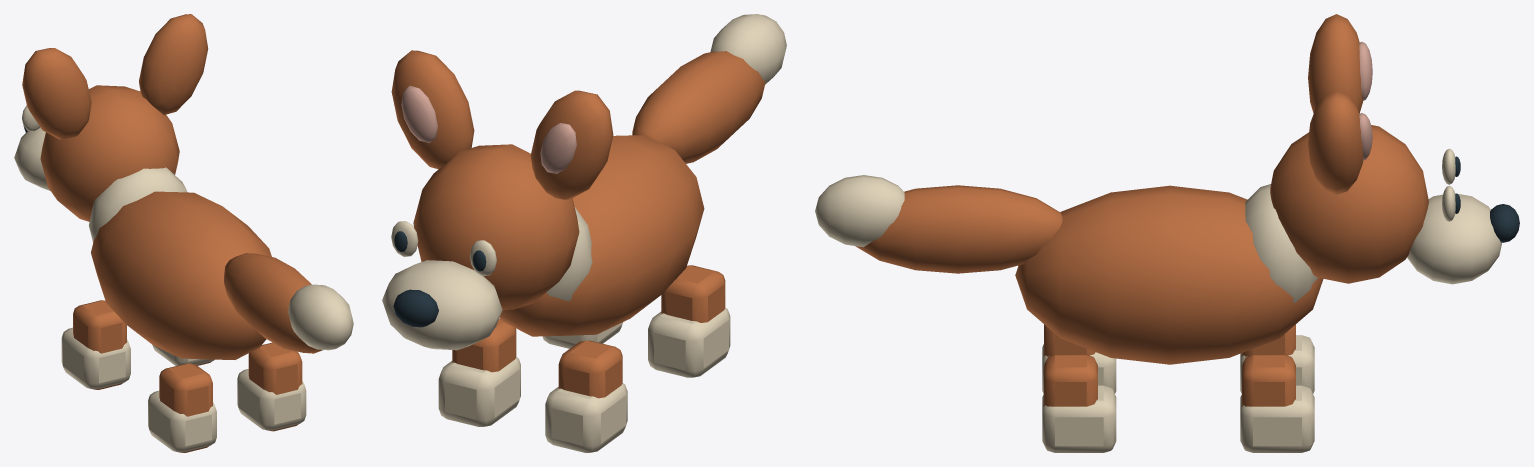
File: fox.glb
3 renders of one model, left to right at view 1: azimuth 30°, elevation 25°; view 2: azimuth 150°, elevation 25°; view 3: azimuth 270°, elevation 25°, orthographic. The views are drawn at different scales.
Parts seen in each view (by area): view 1: fox.001; view 2: fox.001; view 3: fox.001.
Part boxes in pixels (x1,y1,x2,y2): fox.001: (14,14,353,452); fox.001: (382,14,786,452); fox.001: (815,14,1519,452).
Bounding box in the file's own units: 0.7159 × 1.2 × 2.1.
